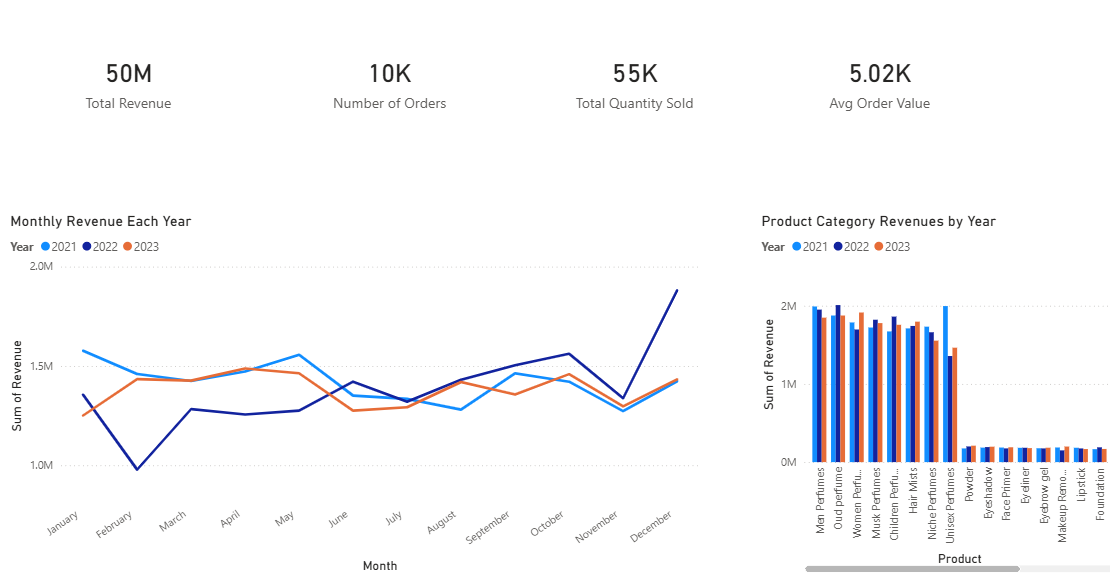

Layout of this report page (visuals, bound fields, positions):
{"tool":"powerbi","page":{"name":"Overview","canvas":[1280,720],"ordinal":0},"visuals":[{"type":"card","fields":{"Values":["Makeup website in Saudi Arabia.Total Revenue"]},"box":[10,0,280,280],"z":0},{"type":"card","fields":{"Values":["Makeup website in Saudi Arabia.Number of Orders"]},"box":[307.4,0,279.9,279.9],"z":1000},{"type":"card","fields":{"Values":["Makeup website in Saudi Arabia.Total Quantity Sold"]},"box":[587.3,0,279.9,279.9],"z":2000},{"type":"card","fields":{"Values":["Makeup website in Saudi Arabia.Avg Order Value"]},"box":[867.2,0,279.9,279.9],"z":3000},{"type":"lineChart","title":"Monthly Revenue Each Year","fields":{"Category":["Makeup website in Saudi Arabia.Order_Date.Variation.Date Hierarchy.Month","Makeup website in Saudi Arabia.Order_Date.Variation.Date Hierarchy.Day"],"Y":["Sum(Makeup website in Saudi Arabia.Revenue)"],"Series":["Makeup website in Saudi Arabia.Year"]},"box":[10,289.4,795.4,416.2],"z":4000},{"type":"clusteredColumnChart","title":"Product Category Revenues by Year","fields":{"Category":["Makeup website in Saudi Arabia.Product"],"Y":["Sum(Makeup website in Saudi Arabia.Revenue)"],"Series":["Makeup website in Saudi Arabia.Year"]},"box":[866.6,289.4,413.4,416.2],"z":5000}]}

Visuals, with their boxes on the page's 1280x720 design canvas (x1, y1, x2, y2). These are canvas units, not pixel positions in the 1110x582 screenshot, which may show the page scaled, cropped or inside an application window:
card - Makeup website in Saudi Arabia.Total Revenue: 10/0/290/280
card - Makeup website in Saudi Arabia.Number of Orders: 307/0/587/280
card - Makeup website in Saudi Arabia.Total Quantity Sold: 587/0/867/280
card - Makeup website in Saudi Arabia.Avg Order Value: 867/0/1147/280
"Monthly Revenue Each Year" lineChart: 10/289/805/706
"Product Category Revenues by Year" clusteredColumnChart: 867/289/1280/706
